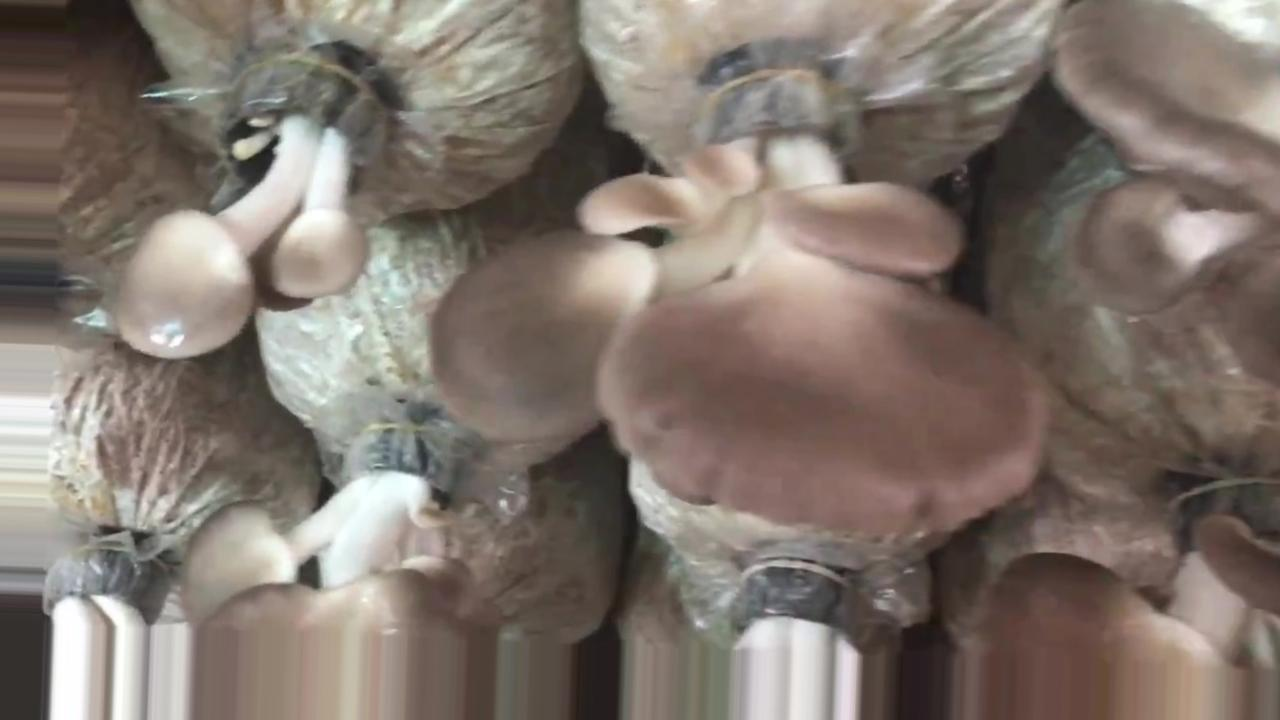nam: (427, 66, 1049, 532), (190, 413, 499, 720), (1057, 5, 1280, 391), (123, 43, 389, 357), (985, 516, 1280, 717)
